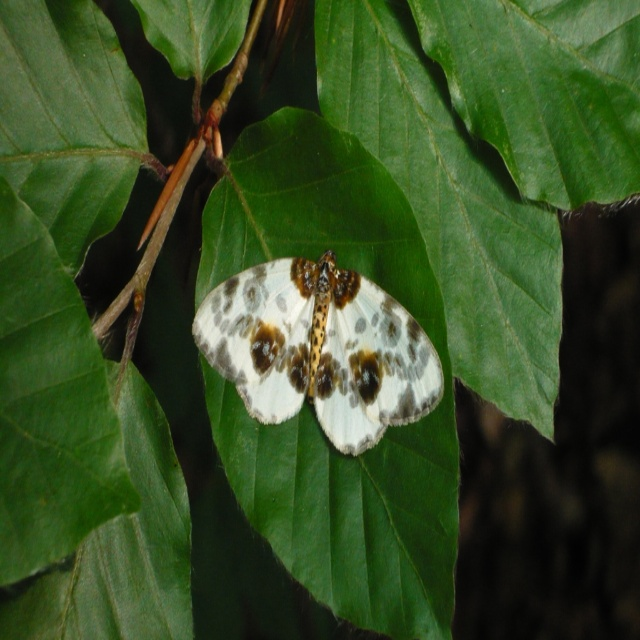Butterfly: (258, 223, 456, 489)
